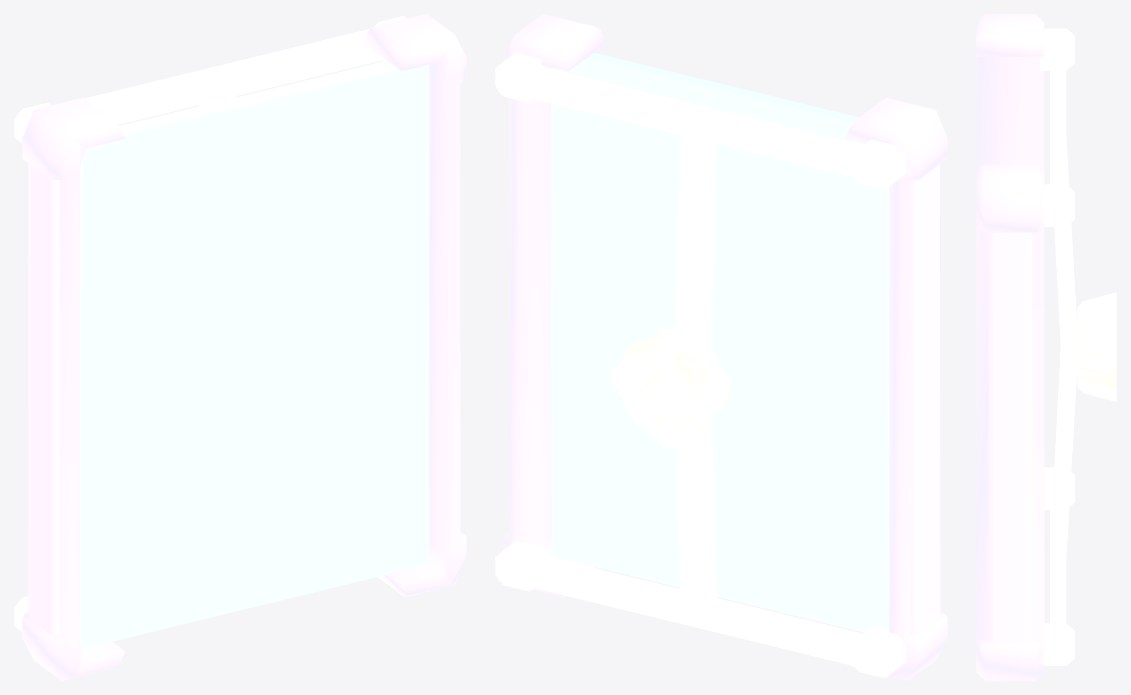
The model's file is banner_wall_top.glb.
The picture shows the model from 3 angles, left to right: view 1: azimuth 30°, elevation 25°; view 2: azimuth 150°, elevation 25°; view 3: azimuth 270°, elevation 25°; orthographic projection. The views are drawn at different scales.
Parts seen in each view (by area): view 1: Banner_Wall_Top; view 2: Banner_Wall_Top; view 3: Banner_Wall_Top.
Boxes of the visible parts, x1,y1,x2,y2 form: Banner_Wall_Top: (14, 14, 466, 680); Banner_Wall_Top: (495, 14, 947, 680); Banner_Wall_Top: (976, 14, 1116, 680).
Bounding box in the file's own units: 0.7297 × 0.9226 × 0.2375.
